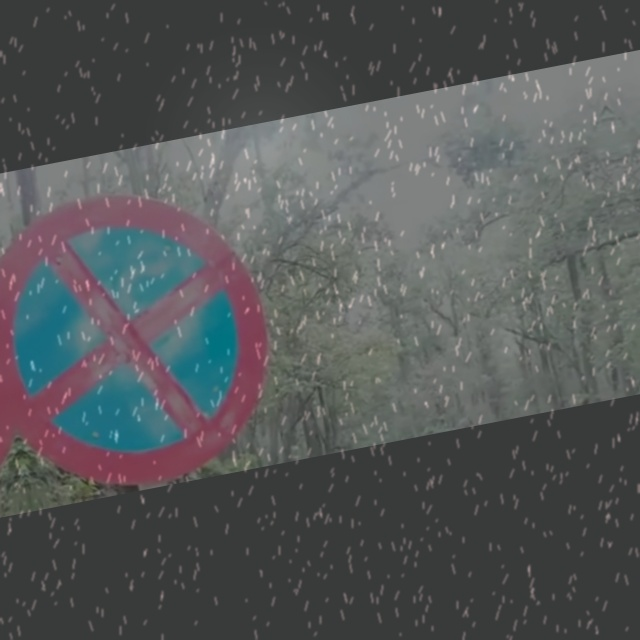No_Stopping_or_Standing: (1, 190, 274, 474)
